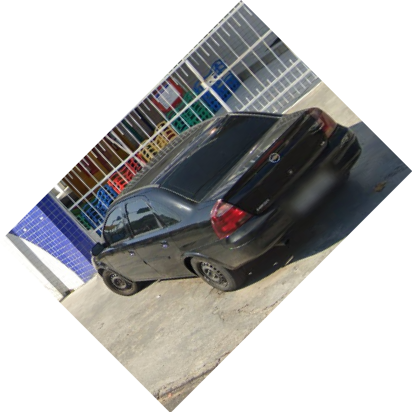car: (89, 110, 362, 296)
